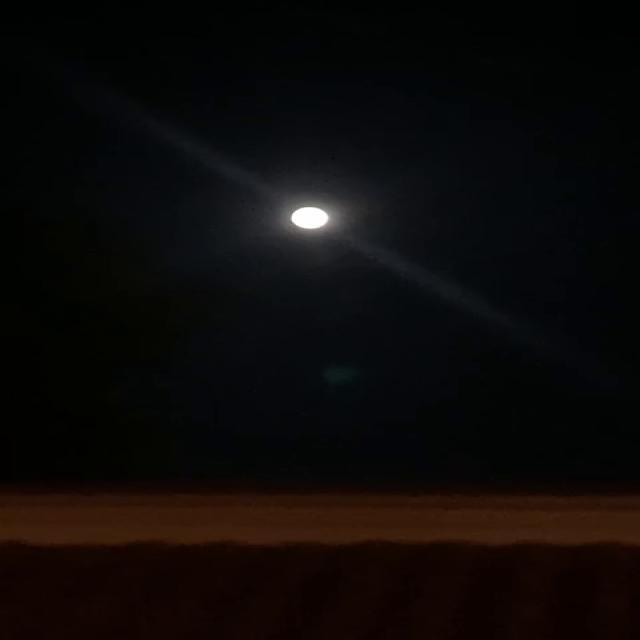moon: (285, 202, 335, 235)
